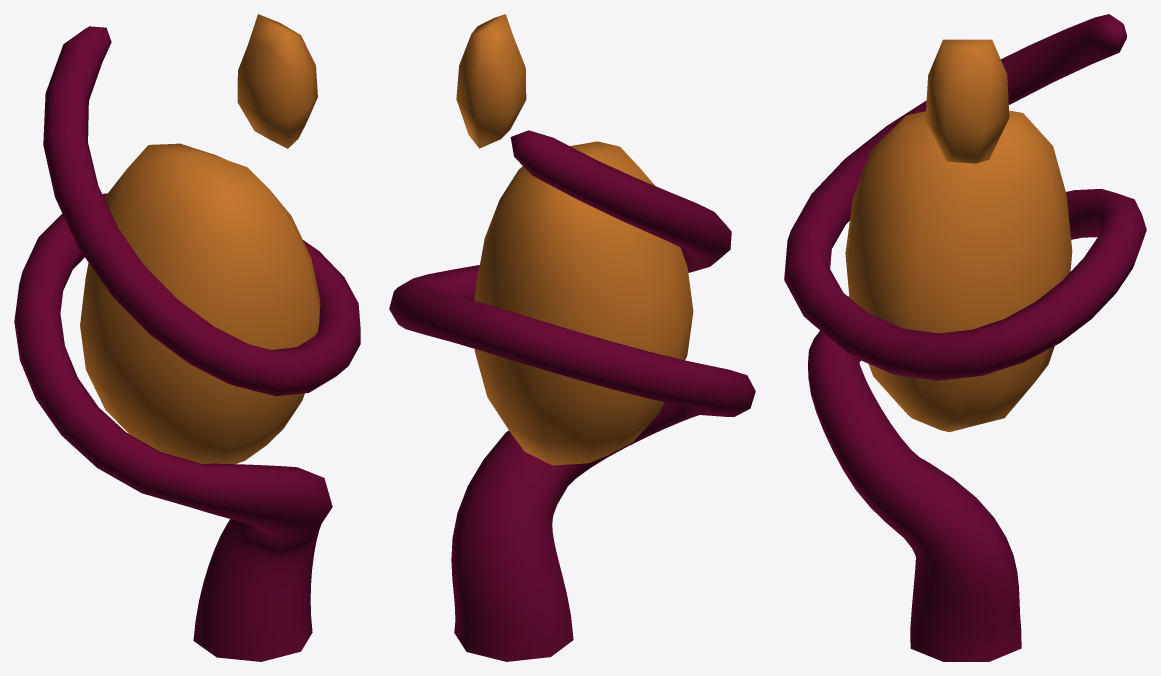
File: usk_Tree_Lava.glb
The picture shows the model from 3 angles, left to right: view 1: azimuth 30°, elevation 25°; view 2: azimuth 150°, elevation 25°; view 3: azimuth 270°, elevation 25°; orthographic projection.
Parts seen in each view (by area): view 1: Tree_Lava_3; view 2: Tree_Lava_3; view 3: Tree_Lava_3.
Part boxes in pixels (box(x1,y1,x2,y2)): Tree_Lava_3: box(14, 14, 360, 661); Tree_Lava_3: box(389, 14, 755, 661); Tree_Lava_3: box(784, 14, 1146, 661).
Size of the model in its own units: 1.12 by 2.09 by 1.13.
1 material, 1 textured.
